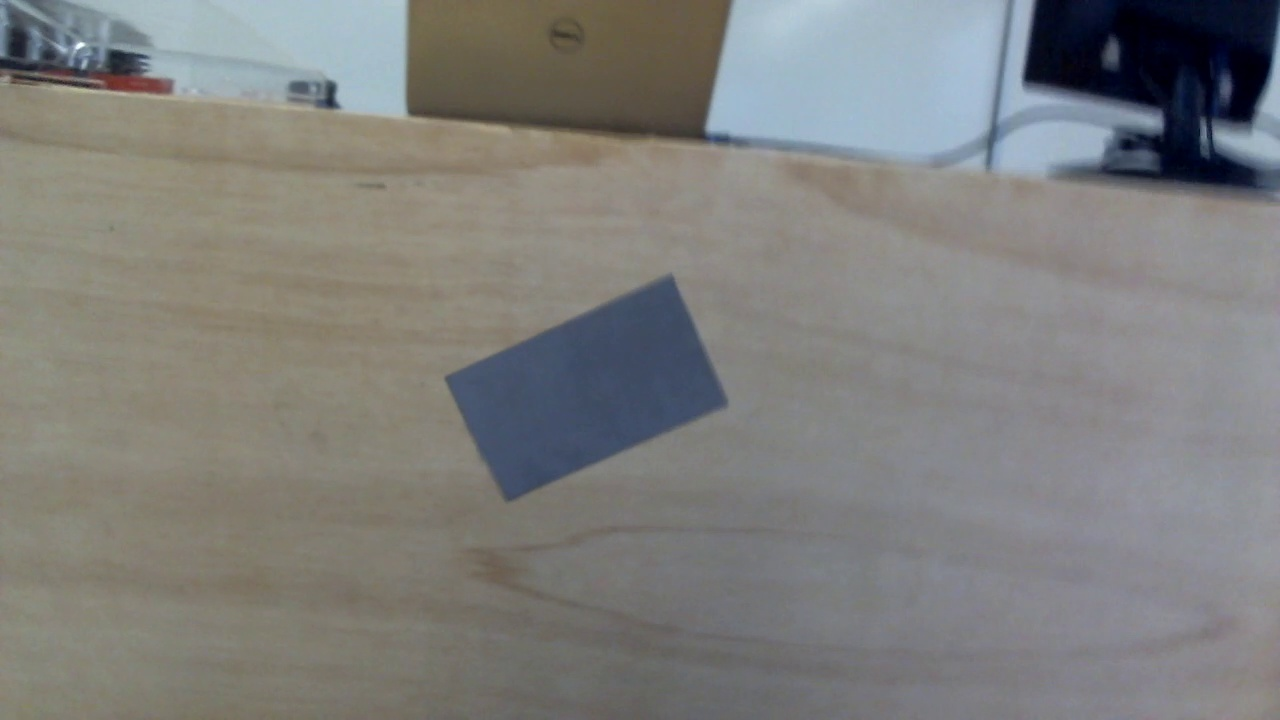Tape: (444, 278, 732, 499)
